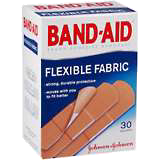grozi_46: (22, 0, 136, 160)
